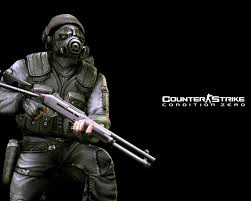gun: (0, 69, 156, 168)
